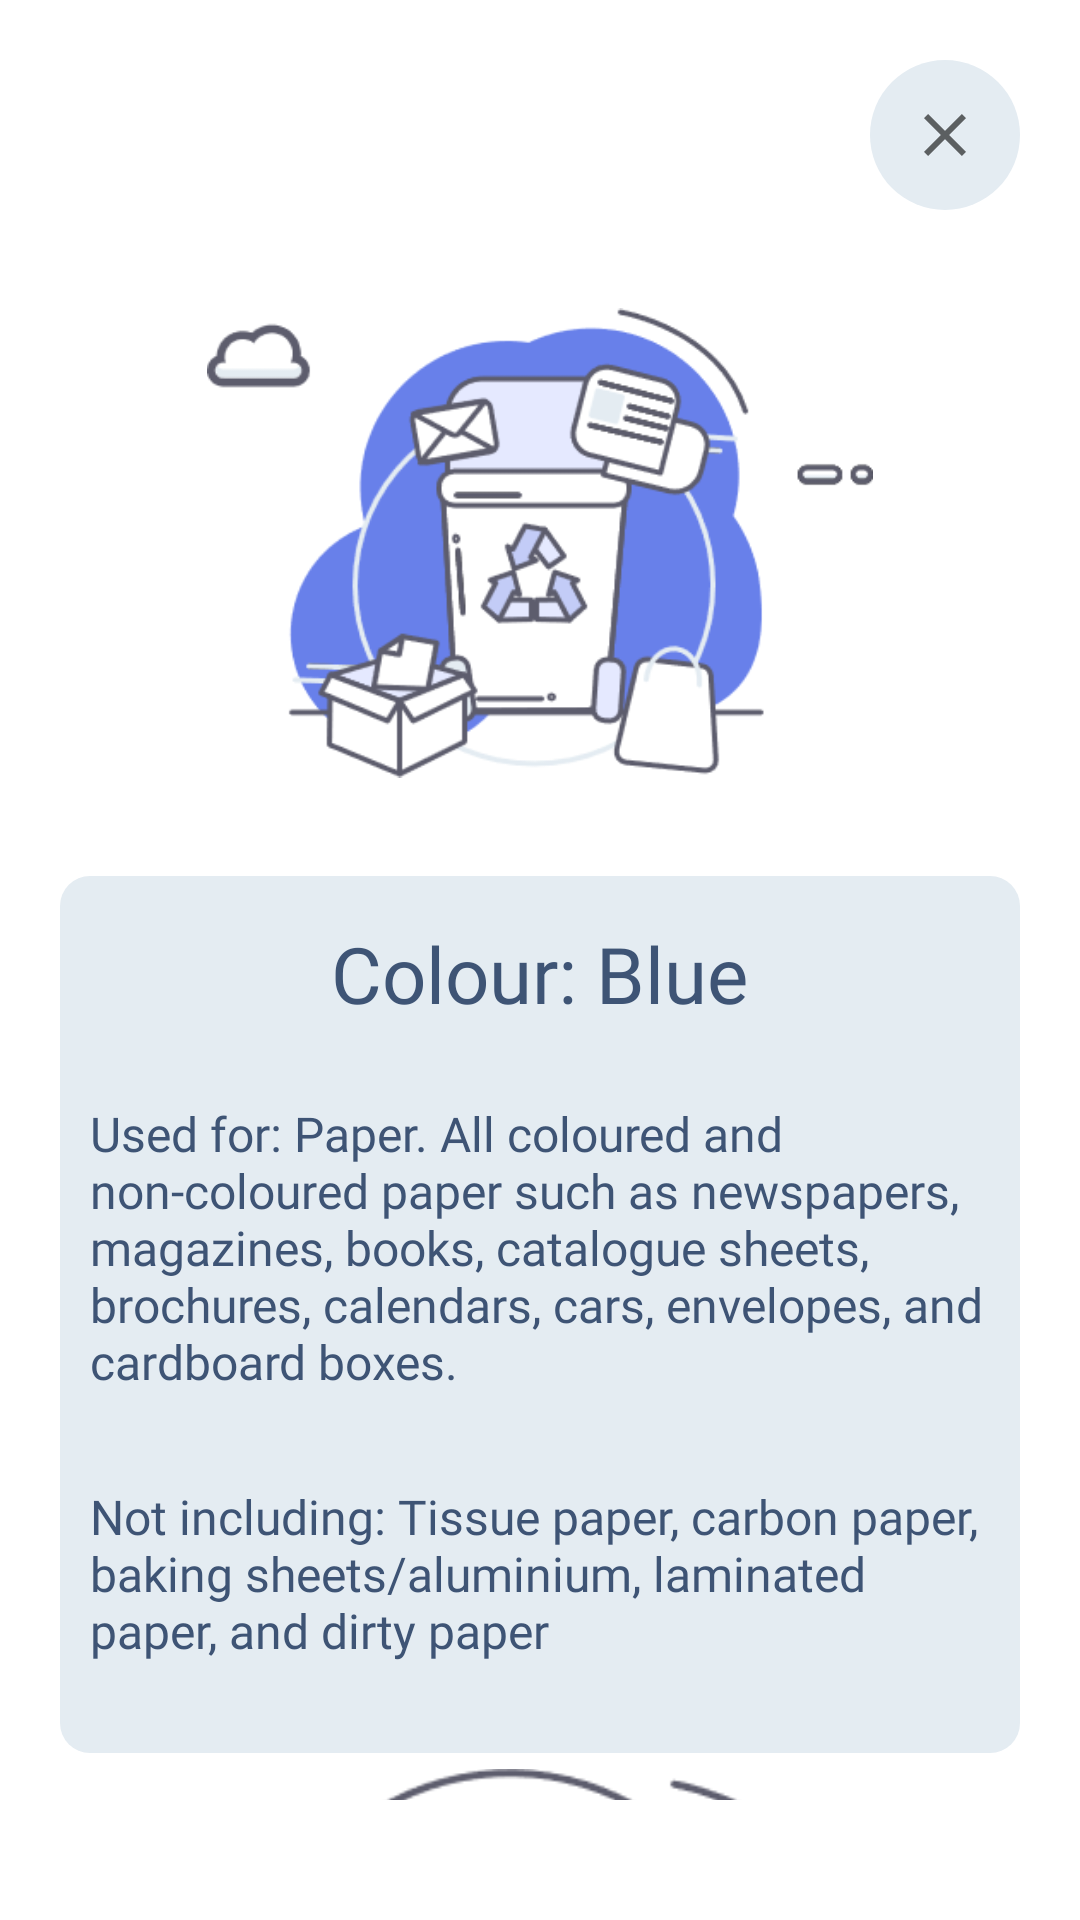

Where to tap for icons on this 1080 x 1920 app screen, as [x,y]:
close: [945,135]
